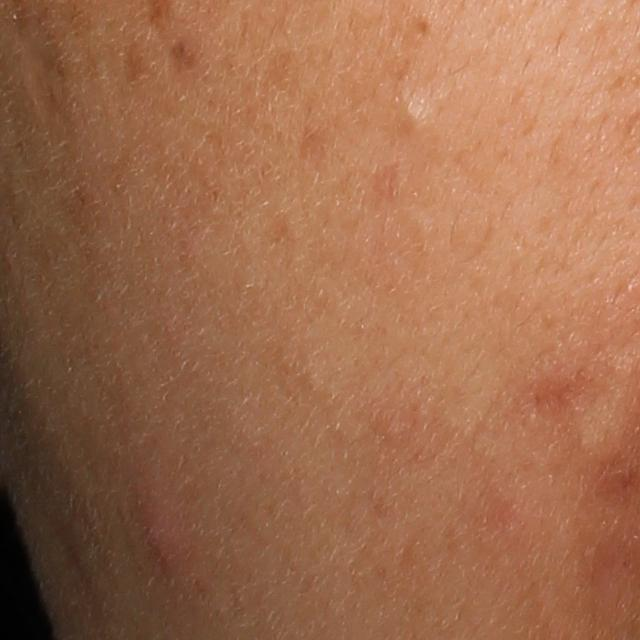comedo: (395, 96, 436, 140)
melasma: (123, 33, 161, 90), (166, 38, 210, 74)
papule: (132, 482, 189, 578)
